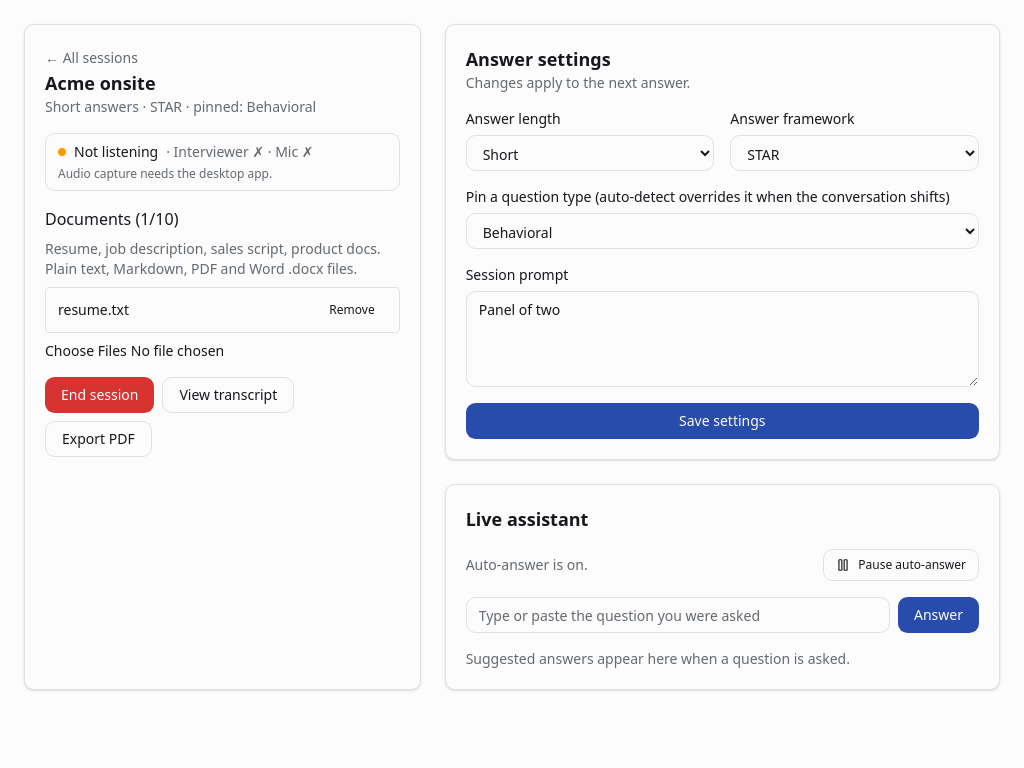
Test: session settings editing (Live) › shows the backend error
The width and height of the screenshot is (1024, 768).
Expected: the heading "Acme onsite" is shown, [45,71,156,95]
Click the button "Save settings".
click(722, 421)  # box [466,403,979,439]
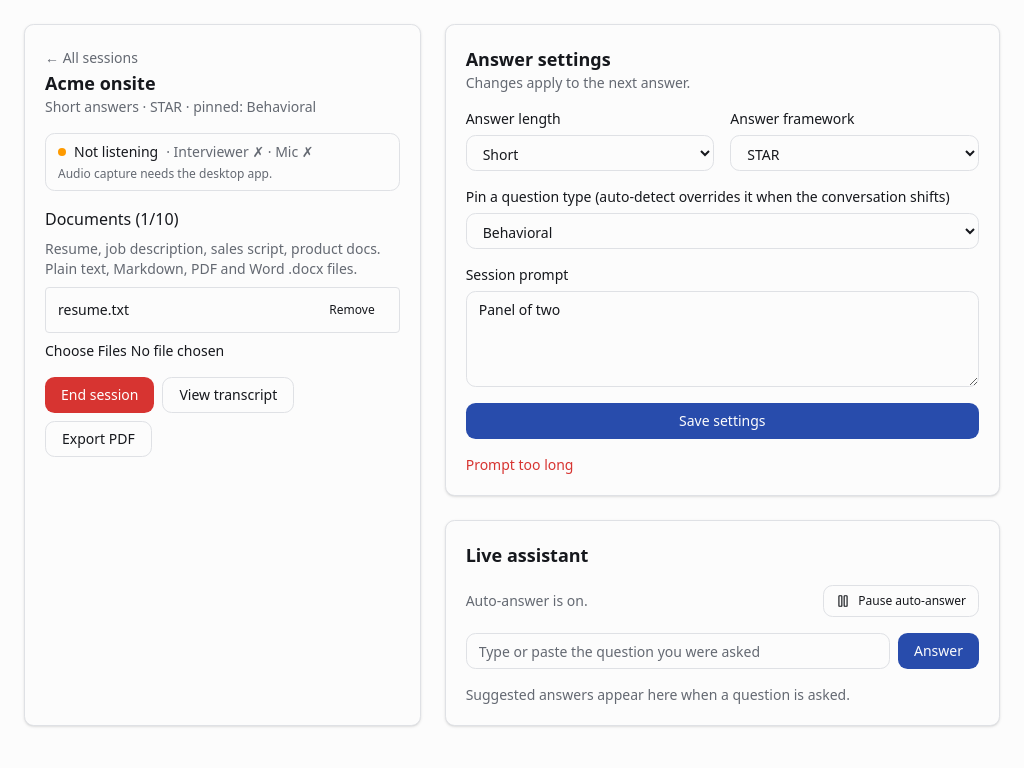
Now the message "Prompt too long" is shown, box [466,455,574,474]
